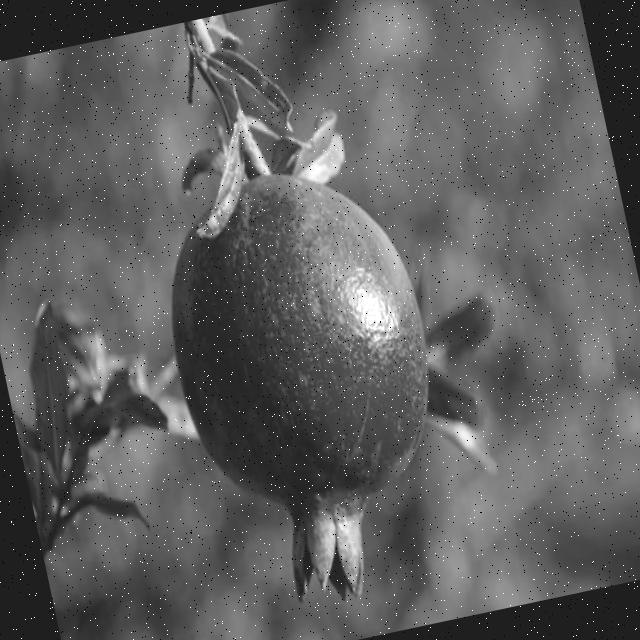Ripe: (129, 133, 480, 634)
